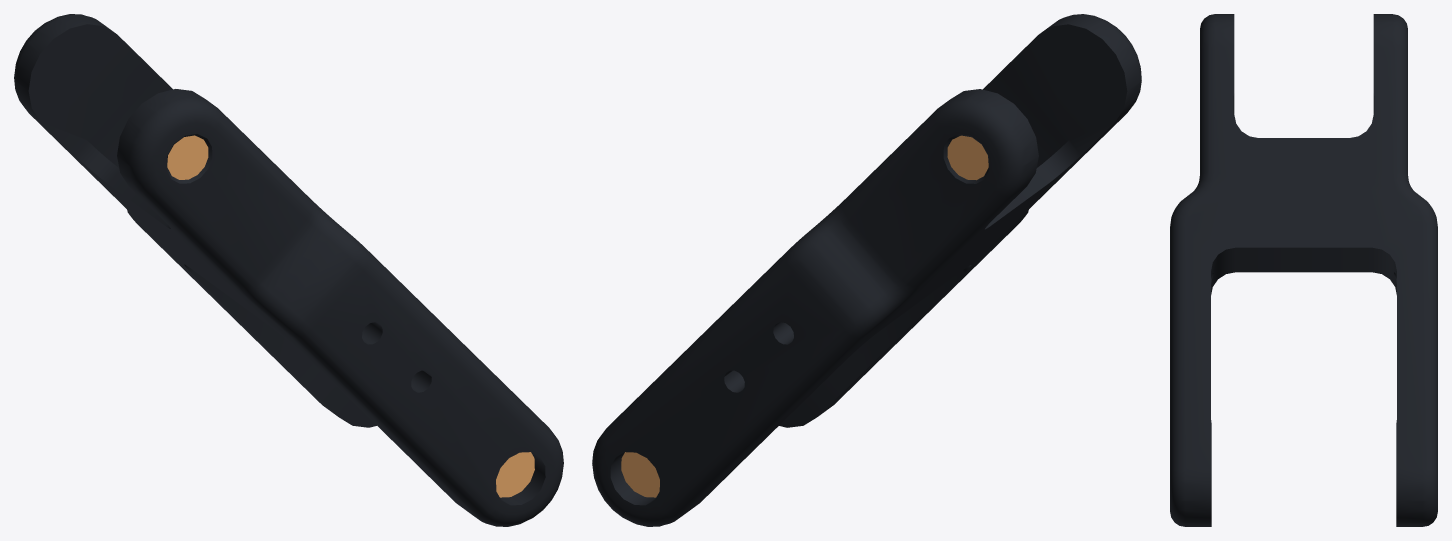
Rendered from right_inner_knuckle.dae.
3 renders of one model, left to right at view 1: azimuth 30°, elevation 25°; view 2: azimuth 150°, elevation 25°; view 3: azimuth 270°, elevation 25°, orthographic. The views are drawn at different scales.
Visible parts, largest first — view 1: right_inner_knuckle; view 2: right_inner_knuckle; view 3: right_inner_knuckle.
Boxes of the visible parts, x1,y1,x2,y2 form: right_inner_knuckle: (14, 14, 563, 526); right_inner_knuckle: (592, 14, 1141, 526); right_inner_knuckle: (1170, 14, 1437, 526).
Bounding box in the file's own units: 0.0492 × 0.035 × 0.0554.
